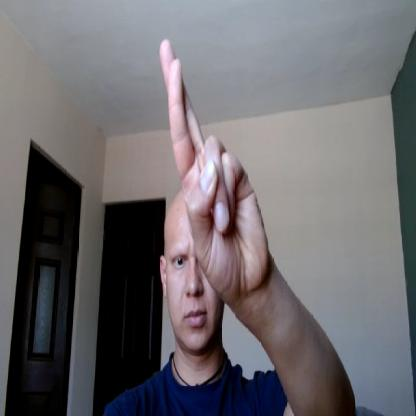R: (159, 37, 268, 298)
